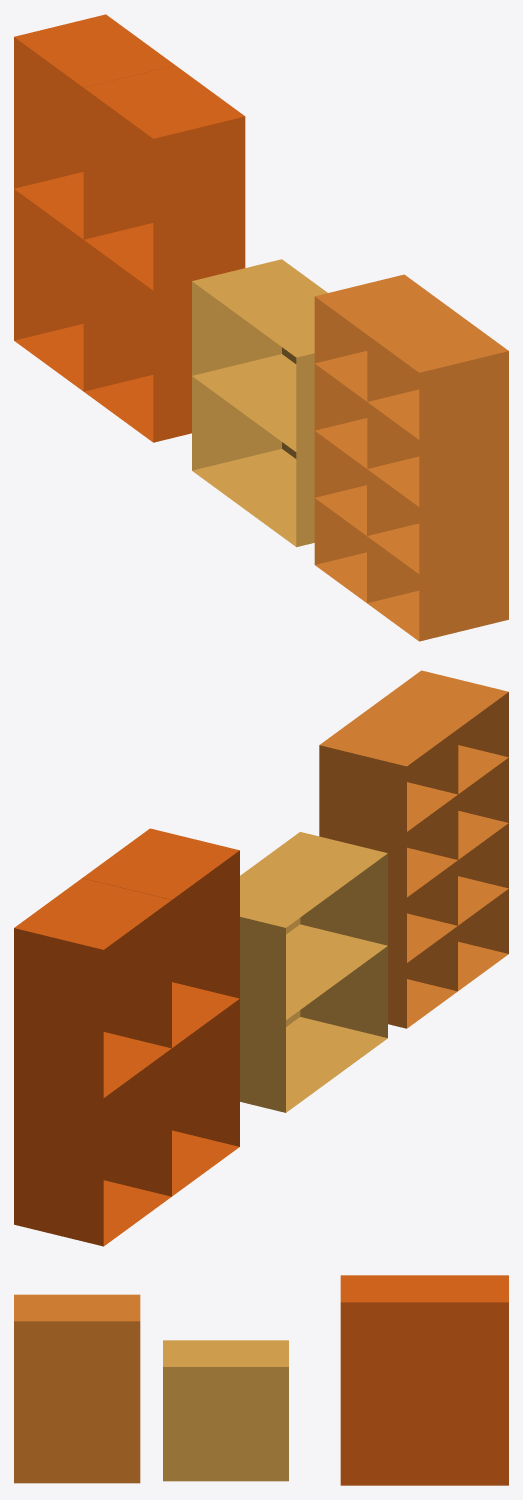
The model's file is Hyllyt.fbx.
3 renders of one model, top to bottom at view 1: azimuth 30°, elevation 25°; view 2: azimuth 150°, elevation 25°; view 3: azimuth 270°, elevation 25°, orthographic. The views are drawn at different scales.
Parts seen in each view (by area): view 1: Cube.002, Cube.001, Cube; view 2: Cube.002, Cube.001, Cube; view 3: Cube.002, Cube.001, Cube.
Boxes of the visible parts, x1,y1,x2,y2 form: Cube.002: (14, 14, 245, 442); Cube.001: (314, 274, 508, 641); Cube: (192, 259, 327, 547); Cube.002: (14, 828, 239, 1246); Cube.001: (319, 670, 508, 1028); Cube: (240, 832, 387, 1112); Cube.002: (340, 1275, 508, 1485); Cube.001: (14, 1294, 140, 1483); Cube: (163, 1340, 288, 1481).
Size of the model in its own units: 107 by 321 by 784.
